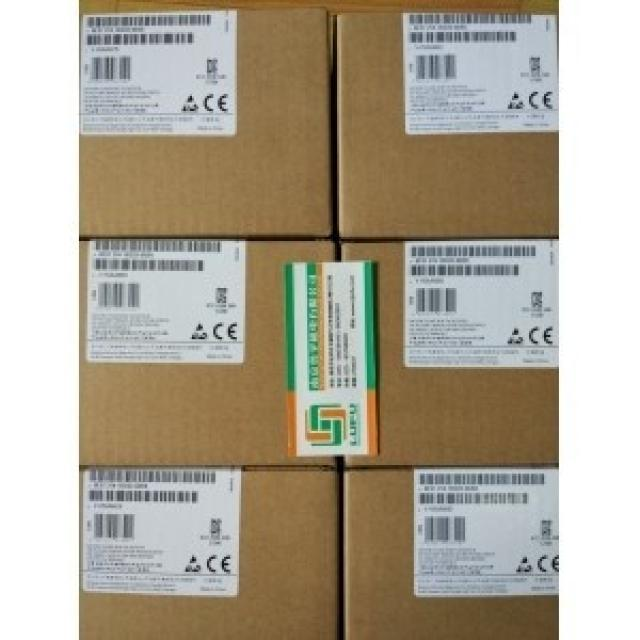box: (79, 238, 336, 471), (80, 3, 332, 240), (332, 5, 560, 238), (341, 236, 560, 468), (81, 469, 341, 637), (341, 469, 558, 637)
